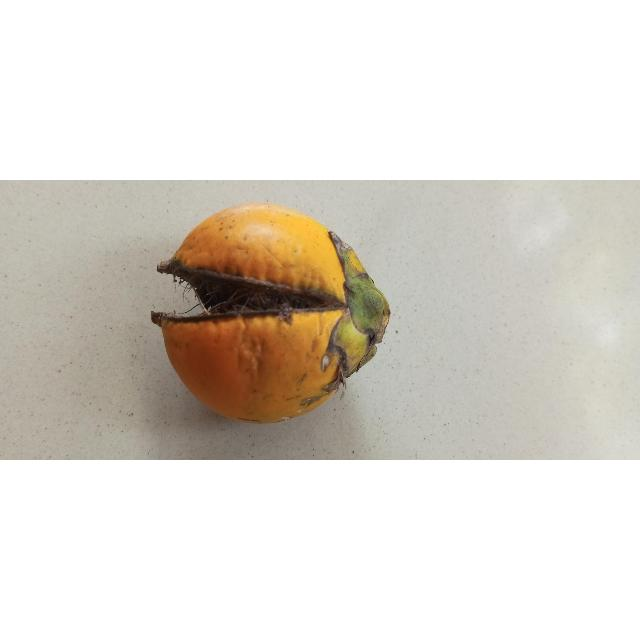damaged: (151, 203, 390, 424)
